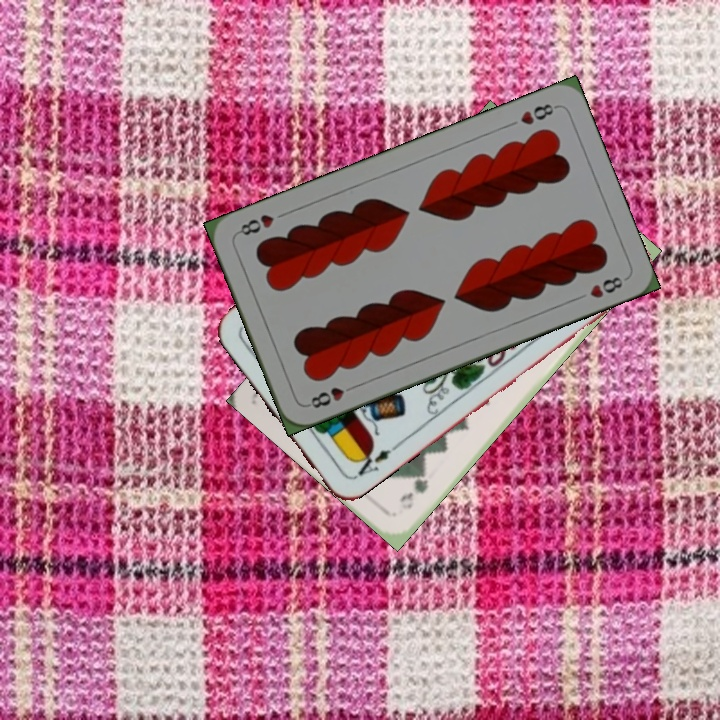EA: (350, 440, 401, 482)
G9: (396, 468, 431, 513)
H8: (303, 381, 359, 411), (516, 99, 560, 128)
